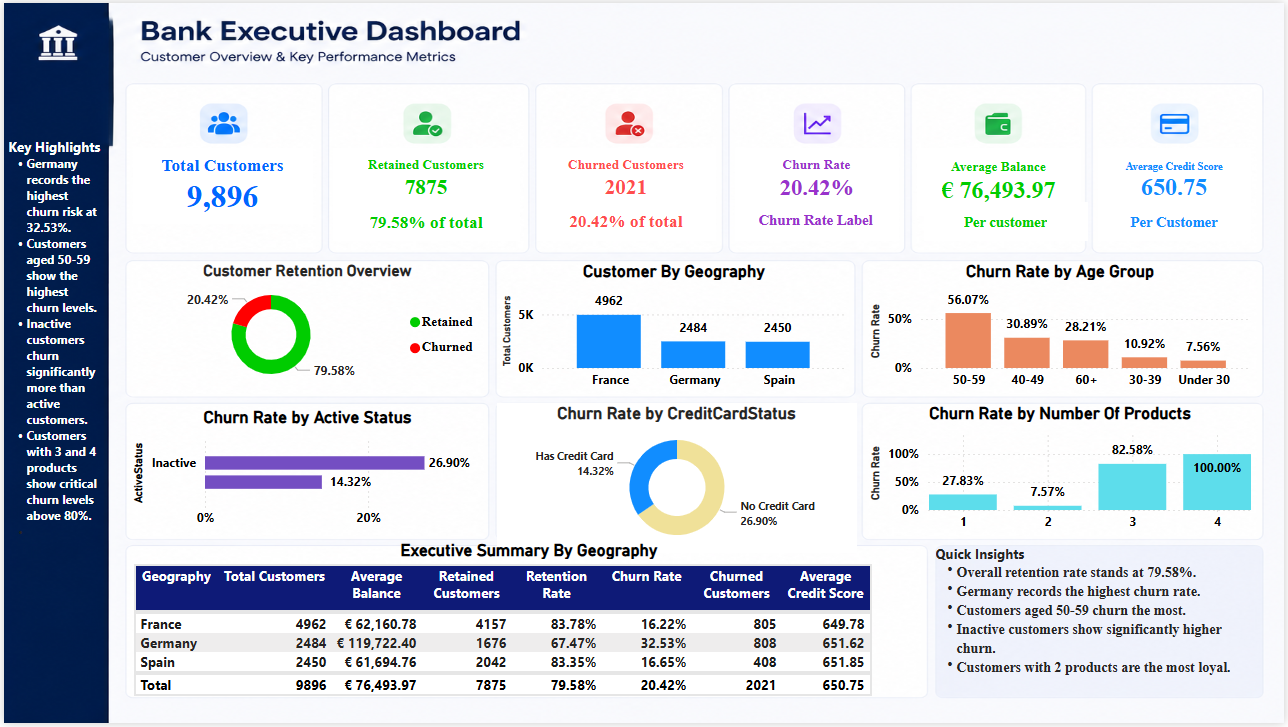

The dashboard page shown, as its layout file describes it:
{"tool":"powerbi","page":{"name":"excutive dashboard","canvas":[1280,720],"ordinal":0},"visuals":[{"type":"cardVisual","fields":{"Data":["bank_churn_project bank_churn_analysis.Total Customers"]},"box":[124,140,190,86],"z":0},{"type":"cardVisual","fields":{"Data":["bank_churn_project bank_churn_analysis.Retained Customers"]},"box":[324,140,197,72],"z":1},{"type":"cardVisual","fields":{"Data":["bank_churn_project bank_churn_analysis.Retention Label"]},"box":[324,194,197,49],"z":2},{"type":"cardVisual","fields":{"Data":["bank_churn_project bank_churn_analysis.Churned Customers"]},"box":[528,140,189,72],"z":3},{"type":"cardVisual","fields":{"Data":["bank_churn_project bank_churn_analysis.Churn Label"]},"box":[528,192,189,51],"z":4},{"type":"cardVisual","fields":{"Data":["bank_churn_project bank_churn_analysis.Churn Rate"]},"box":[726,140,174,72],"z":5},{"type":"cardVisual","fields":{"Data":["bank_churn_project bank_churn_analysis.Churn Rate Label"]},"box":[726,194,174,49],"z":6},{"type":"cardVisual","fields":{"Data":["bank_churn_project bank_churn_analysis.Average Balance"]},"box":[908,140,174,78],"z":7},{"type":"cardVisual","fields":{"Data":["bank_churn_project bank_churn_analysis.Average Balance Label"]},"box":[915,194,174,49],"z":8},{"type":"cardVisual","fields":{"Data":["bank_churn_project bank_churn_analysis.Average Credit Score"]},"box":[1089,140,163,75],"z":9},{"type":"cardVisual","fields":{"Data":["bank_churn_project bank_churn_analysis.Average Credit Score Label"]},"box":[1089,194,163,49],"z":10},{"type":"donutChart","title":"Customer Retention Overview","fields":{"Category":["bank_churn_project bank_churn_analysis.ChurnStatus"],"Y":["bank_churn_project bank_churn_analysis.Total Customers"]},"box":[124,258,360,129],"z":11},{"type":"clusteredColumnChart","title":"Customer By Geography","fields":{"Category":["bank_churn_project bank_churn_analysis.Geography"],"Y":["bank_churn_project bank_churn_analysis.Total Customers"]},"box":[493,258,355,137],"z":12},{"type":"clusteredColumnChart","title":"Churn Rate by Age Group","fields":{"Category":["bank_churn_project bank_churn_analysis.AgeGroup"],"Y":["bank_churn_project bank_churn_analysis.Churn Rate"]},"box":[861,258,391,137],"z":13},{"type":"clusteredBarChart","title":"Churn Rate by Active Status","fields":{"Category":["bank_churn_project bank_churn_analysis.ActiveStatus"],"Y":["bank_churn_project bank_churn_analysis.Churn Rate"]},"box":[124,404,360,129],"z":14},{"type":"clusteredColumnChart","title":"Churn Rate by Number Of Products","fields":{"Y":["bank_churn_project bank_churn_analysis.Churn Rate"],"Category":["bank_churn_project bank_churn_analysis.NumOfProducts"]},"box":[861,400,391,137],"z":15},{"type":"donutChart","fields":{"Category":["bank_churn_project bank_churn_analysis.CreditCardStatus"],"Y":["bank_churn_project bank_churn_analysis.Churn Rate"]},"box":[493,400,360,150],"z":16},{"type":"tableEx","title":"Executive Summary By Geography","fields":{"Values":["bank_churn_project bank_churn_analysis.Geography","bank_churn_project bank_churn_analysis.Total Customers","bank_churn_project bank_churn_analysis.Average Balance","bank_churn_project bank_churn_analysis.Retained Customers","bank_churn_project bank_churn_analysis.Retention Rate","bank_churn_project bank_churn_analysis.Churn Rate","bank_churn_project bank_churn_analysis.Churned Customers","bank_churn_project bank_churn_analysis.Average Credit Score"]},"box":[124,537,803,167],"z":17},{"type":"textbox","box":[927,537,333,167],"z":18},{"type":"textbox","box":[0,130,104,491],"z":19}]}

Visuals, with their boxes in screenshot pixels (x1, y1, x2, y2), scaled from the page's 1280x720 canvas onto the 1288x727 screenshot:
cardVisual - bank_churn_project bank_churn_analysis.Total Customers: left=125, top=141, right=316, bottom=228
cardVisual - bank_churn_project bank_churn_analysis.Retained Customers: left=326, top=141, right=524, bottom=214
cardVisual - bank_churn_project bank_churn_analysis.Retention Label: left=326, top=196, right=524, bottom=245
cardVisual - bank_churn_project bank_churn_analysis.Churned Customers: left=531, top=141, right=721, bottom=214
cardVisual - bank_churn_project bank_churn_analysis.Churn Label: left=531, top=194, right=721, bottom=245
cardVisual - bank_churn_project bank_churn_analysis.Churn Rate: left=731, top=141, right=906, bottom=214
cardVisual - bank_churn_project bank_churn_analysis.Churn Rate Label: left=731, top=196, right=906, bottom=245
cardVisual - bank_churn_project bank_churn_analysis.Average Balance: left=914, top=141, right=1089, bottom=220
cardVisual - bank_churn_project bank_churn_analysis.Average Balance Label: left=921, top=196, right=1096, bottom=245
cardVisual - bank_churn_project bank_churn_analysis.Average Credit Score: left=1096, top=141, right=1260, bottom=217
cardVisual - bank_churn_project bank_churn_analysis.Average Credit Score Label: left=1096, top=196, right=1260, bottom=245
"Customer Retention Overview" donutChart: left=125, top=261, right=487, bottom=391
"Customer By Geography" clusteredColumnChart: left=496, top=261, right=853, bottom=399
"Churn Rate by Age Group" clusteredColumnChart: left=866, top=261, right=1260, bottom=399
"Churn Rate by Active Status" clusteredBarChart: left=125, top=408, right=487, bottom=538
"Churn Rate by Number Of Products" clusteredColumnChart: left=866, top=404, right=1260, bottom=542
donutChart - bank_churn_project bank_churn_analysis.CreditCardStatus x bank_churn_project bank_churn_analysis.Churn Rate: left=496, top=404, right=858, bottom=555
"Executive Summary By Geography" tableEx: left=125, top=542, right=933, bottom=711
textbox: left=933, top=542, right=1268, bottom=711
textbox: left=0, top=131, right=105, bottom=627
